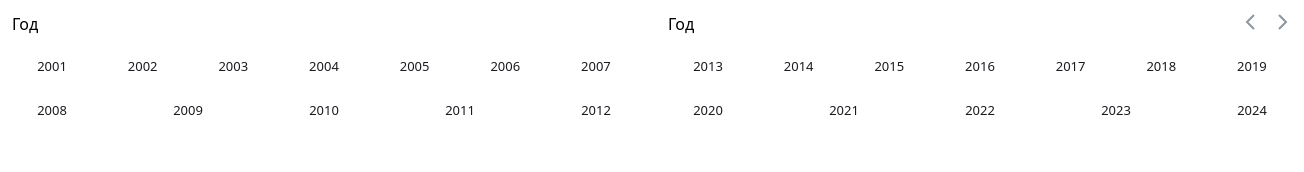
Test: Компонент CalendarYearsRange › При клике на правую стрелку, каждое двенадцатилетие смещается вперед ((2001-2012,2013-2024) -> (2013-2024,2025-2036))
This screenshot has width=1304, height=172.
Click the 2nd button at (1282, 22), box [1272,12,1292,32]
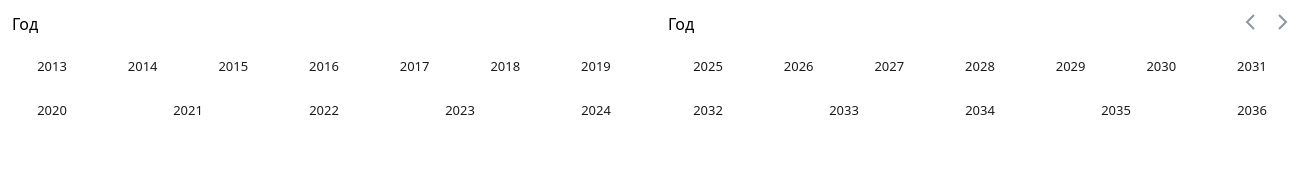
Expected: the text "2025" is shown, [693,56,723,76]
Expected: the text "2026" is shown, [784,56,814,76]
Expected: the text "2027" is shown, [874,56,904,76]
